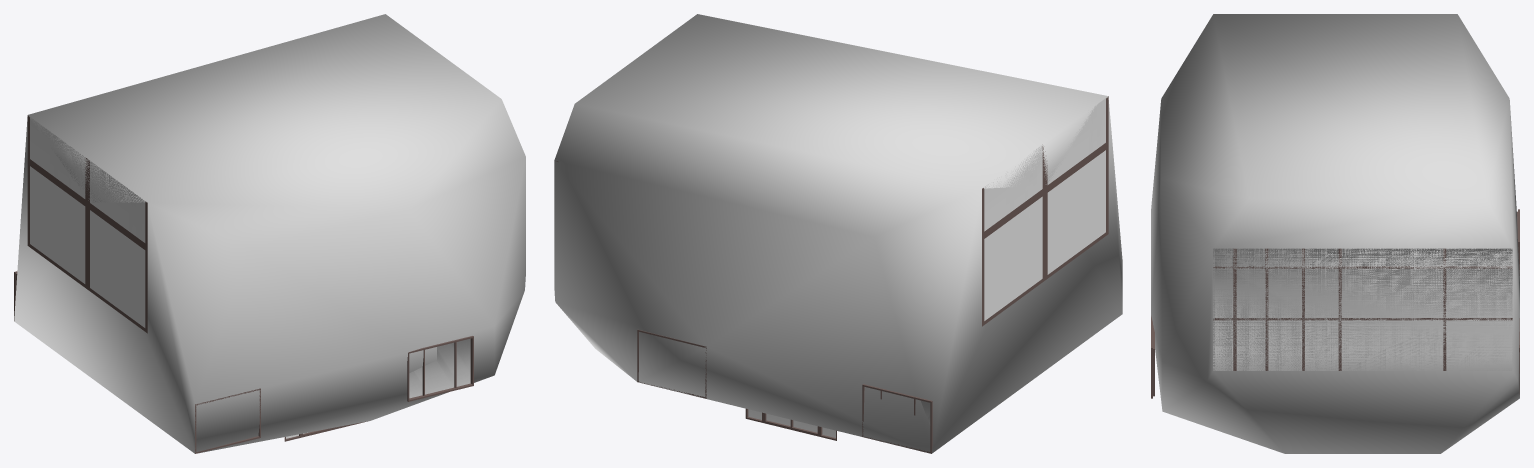
3 renders of one model, left to right at view 1: azimuth 30°, elevation 25°; view 2: azimuth 150°, elevation 25°; view 3: azimuth 270°, elevation 25°, orthographic. The views are drawn at different scales.
Visible parts, largest first — view 1: struct_city_block_tall_base_b_01_col, struct_city_block_tall_base_b_01; view 2: struct_city_block_tall_base_b_01_col, struct_city_block_tall_base_b_01; view 3: struct_city_block_tall_base_b_01_col, struct_city_block_tall_base_b_01.
Boxes of the visible parts, <box> form: struct_city_block_tall_base_b_01_col: <box>14,14,525,453</box>; struct_city_block_tall_base_b_01: <box>14,115,473,453</box>; struct_city_block_tall_base_b_01_col: <box>554,14,1122,453</box>; struct_city_block_tall_base_b_01: <box>556,96,1108,453</box>; struct_city_block_tall_base_b_01_col: <box>1151,14,1519,453</box>; struct_city_block_tall_base_b_01: <box>1151,209,1519,398</box>.
Size of the model in its own units: 8.82 by 5.55 by 7.32.
2 materials, 2 textured.
